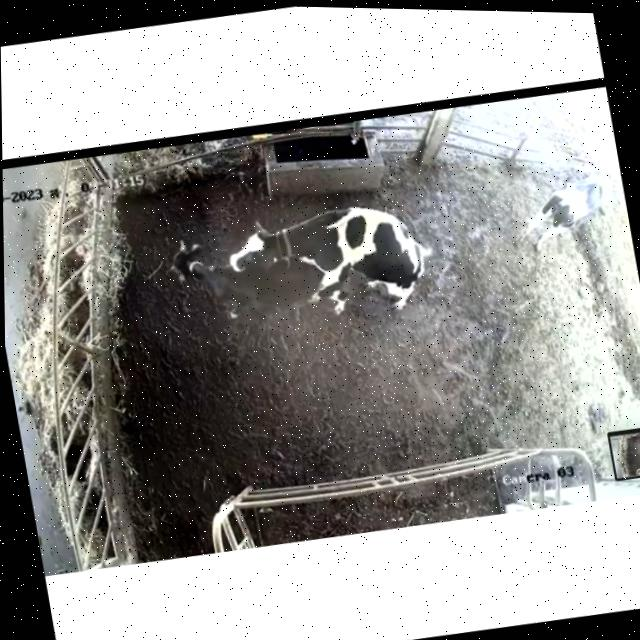ride: (214, 182, 455, 352)
